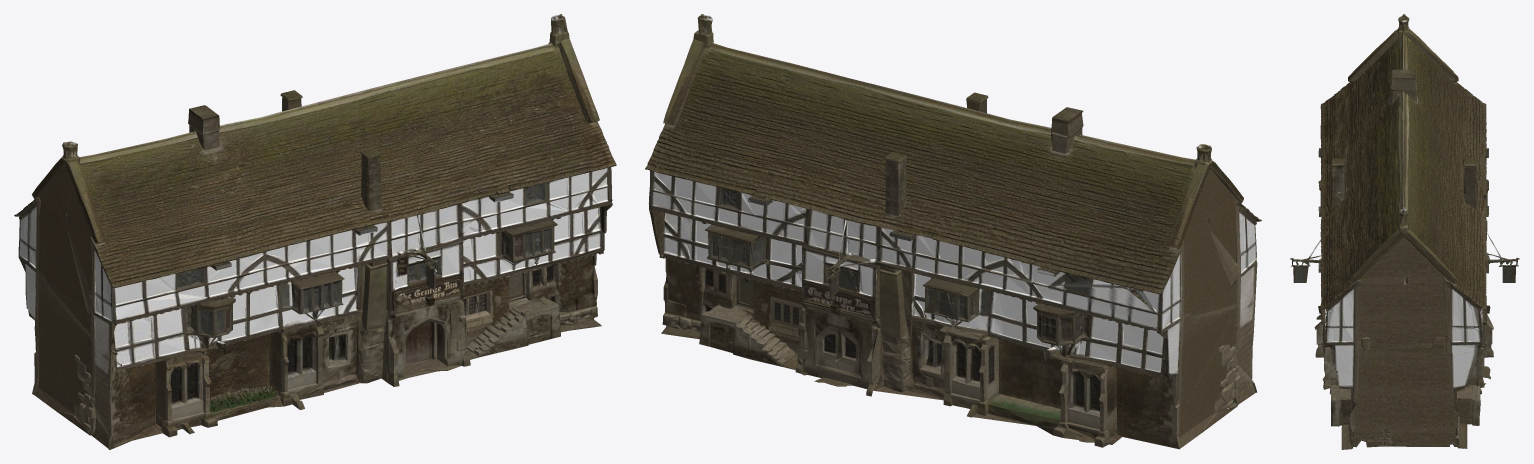
File: inn_george_norton_st_philip_a.meshy.reduced.glb
3 renders of one model, left to right at view 1: azimuth 30°, elevation 25°; view 2: azimuth 150°, elevation 25°; view 3: azimuth 270°, elevation 25°, orthographic. The views are drawn at different scales.
Bounding box in the file's own units: 1.9 × 1.03 × 0.8987.
1 material, 1 textured.
